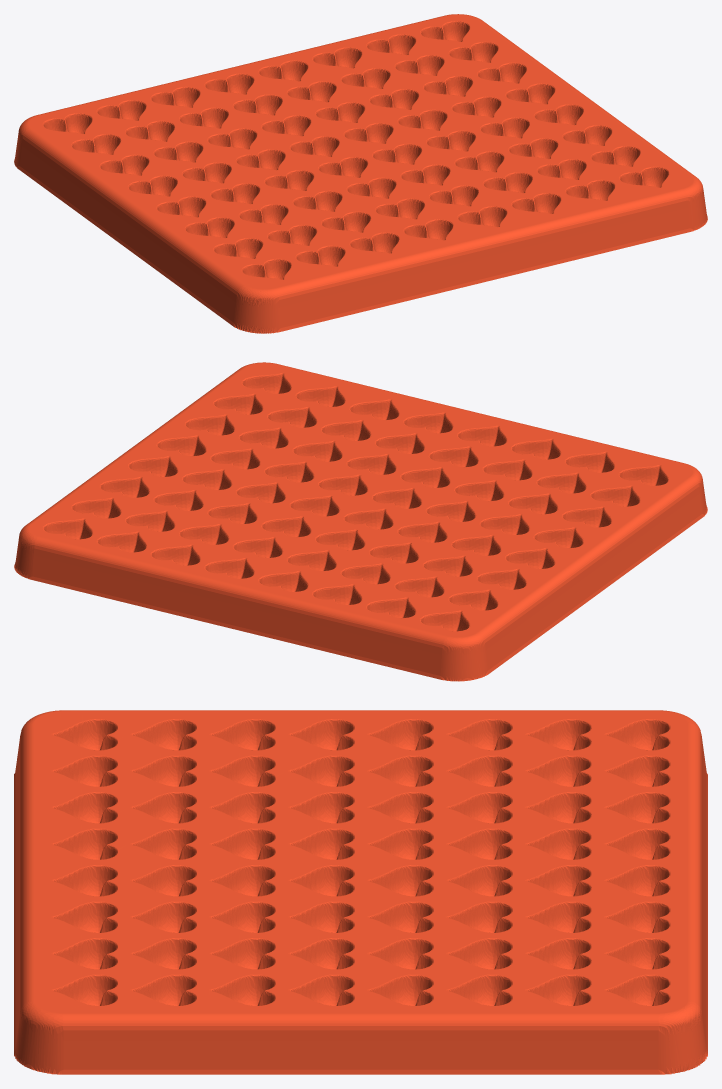
The model's file is mold.glb.
3 views of the same model, one above another, from view 1: azimuth 30°, elevation 25°; view 2: azimuth 150°, elevation 25°; view 3: azimuth 270°, elevation 25° (orthographic). The views are drawn at different scales.
Parts seen in each view (by area): view 1: geometry_0; view 2: geometry_0; view 3: geometry_0.
Boxes of the visible parts, x1,y1,x2,y2 form: geometry_0: [14, 14, 707, 333]; geometry_0: [14, 362, 707, 681]; geometry_0: [14, 710, 707, 1074].
Size of the model in its own units: 0.1355 by 0.0105 by 0.1247.
